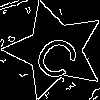C: (30, 25, 89, 84)
